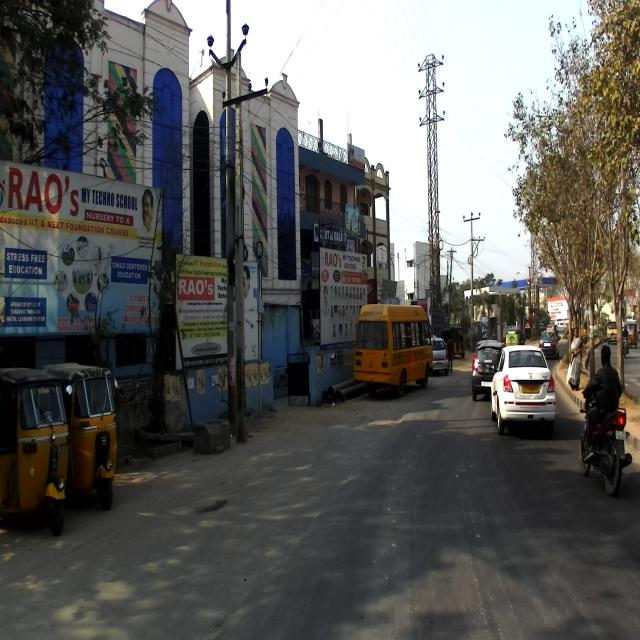auto ahead at: (5, 358, 69, 543)
bus ahead at: (349, 299, 441, 404)
car ahead at: (492, 334, 556, 446), (582, 405, 634, 486)
electric pole ahead at: (205, 0, 261, 461)
